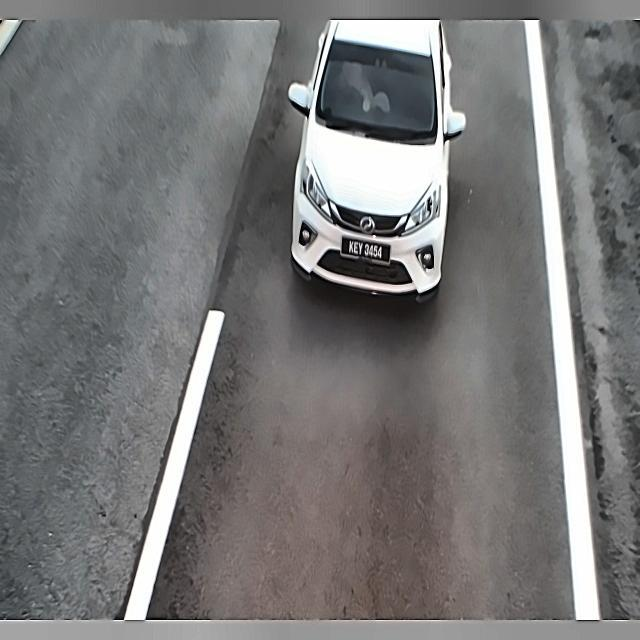car: (338, 234, 391, 269)
